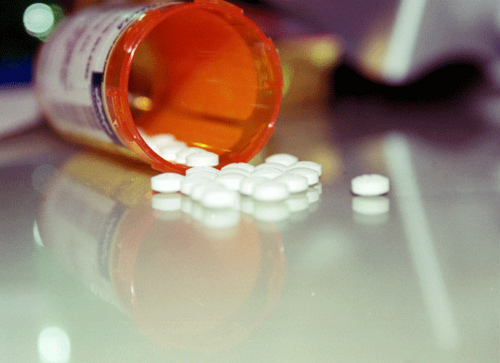pill bottle: (31, 2, 287, 178)
